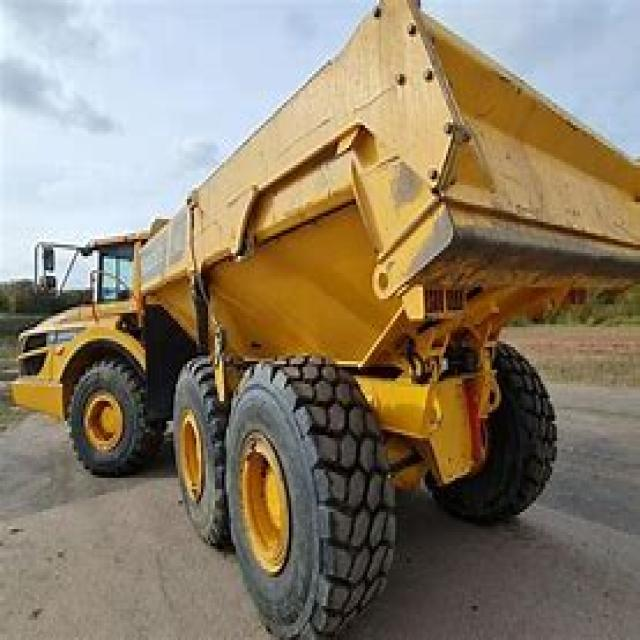dump_truck: (2, 0, 637, 631)
